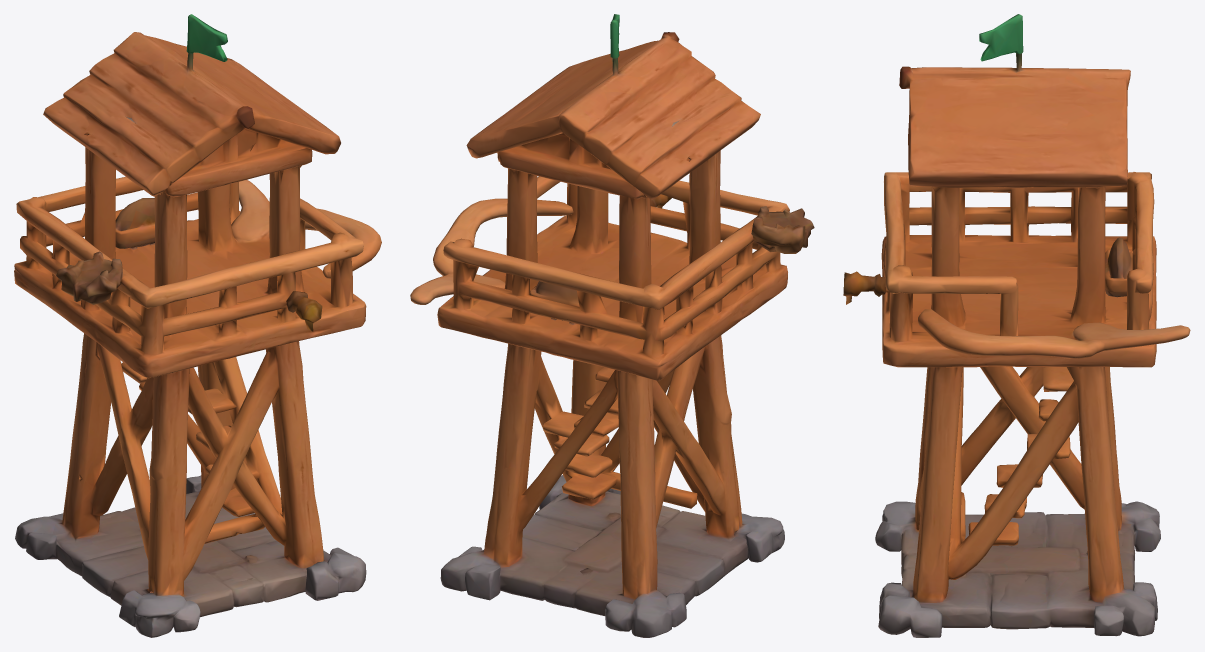
File: lookout_tower.glb
3 renders of one model, left to right at view 1: azimuth 30°, elevation 25°; view 2: azimuth 150°, elevation 25°; view 3: azimuth 270°, elevation 25°, orthographic. The views are drawn at different scales.
Visible parts, largest first — view 1: tripo_node_080c2dc8-180a-43a1-b0c9-b4395a29d630; view 2: tripo_node_080c2dc8-180a-43a1-b0c9-b4395a29d630; view 3: tripo_node_080c2dc8-180a-43a1-b0c9-b4395a29d630.
Part boxes in pixels (box(x1,y1,x2,y2)): tripo_node_080c2dc8-180a-43a1-b0c9-b4395a29d630: box(14, 14, 381, 637); tripo_node_080c2dc8-180a-43a1-b0c9-b4395a29d630: box(410, 14, 814, 637); tripo_node_080c2dc8-180a-43a1-b0c9-b4395a29d630: box(843, 14, 1190, 637).
Size of the model in its own units: 0.6259 by 1 by 0.555.
1 material, 1 textured.
